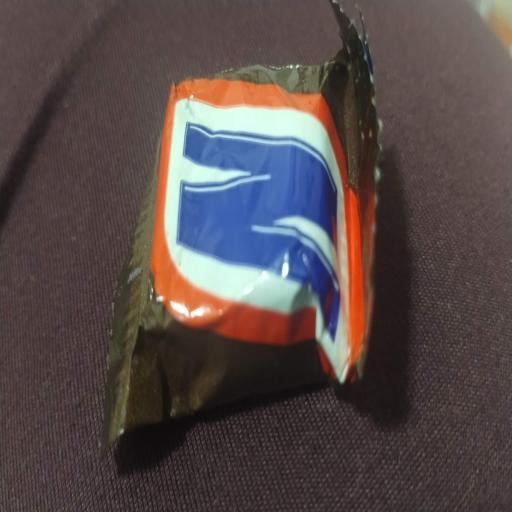chocolate: (104, 4, 378, 444)
